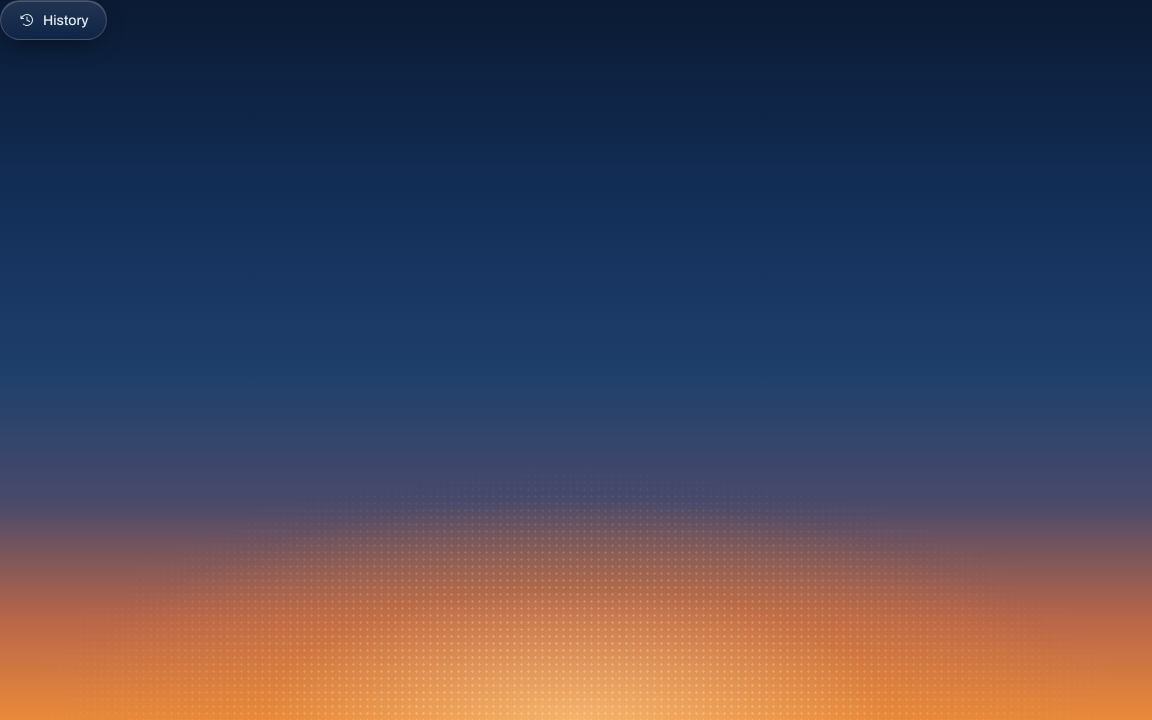
Test: HistoryButton › fills the composer through onPick, closes, and never sends
Step 1. Click the button "History" → {"x": 54, "y": 20}, box [0,0,108,40]
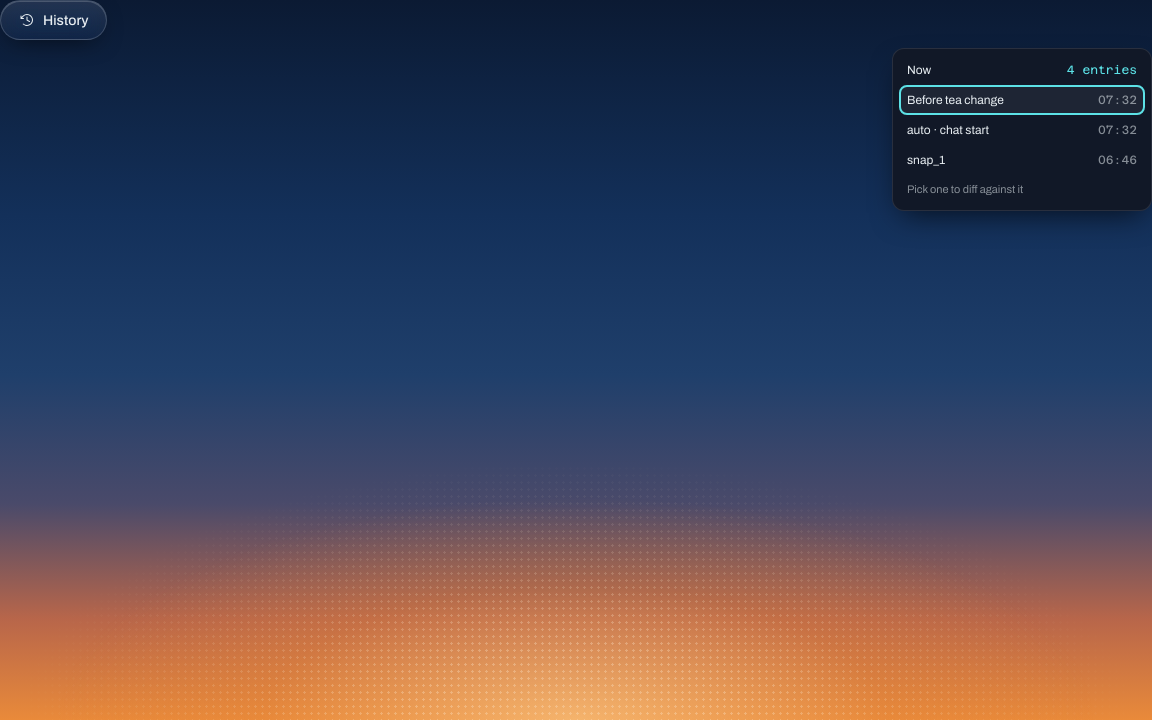
Step 2. Click the button "Before tea change 07:32" → {"x": 1022, "y": 100}, box [899,85,1145,115]
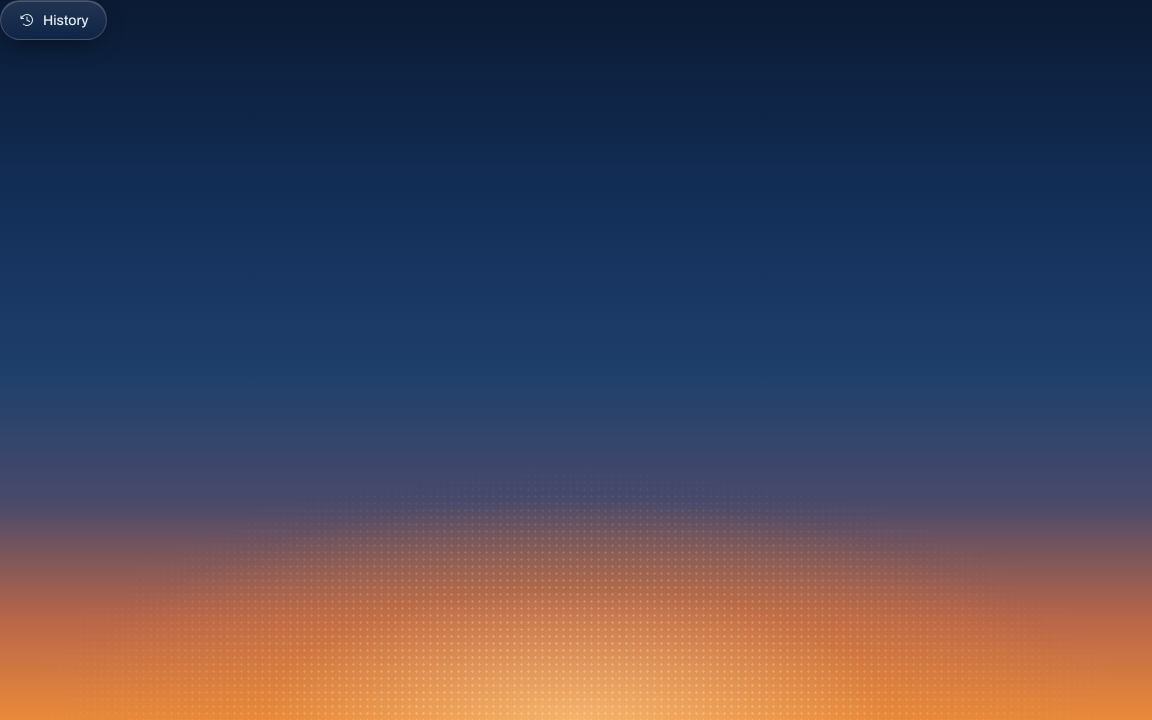
Result: the dialog is gone
